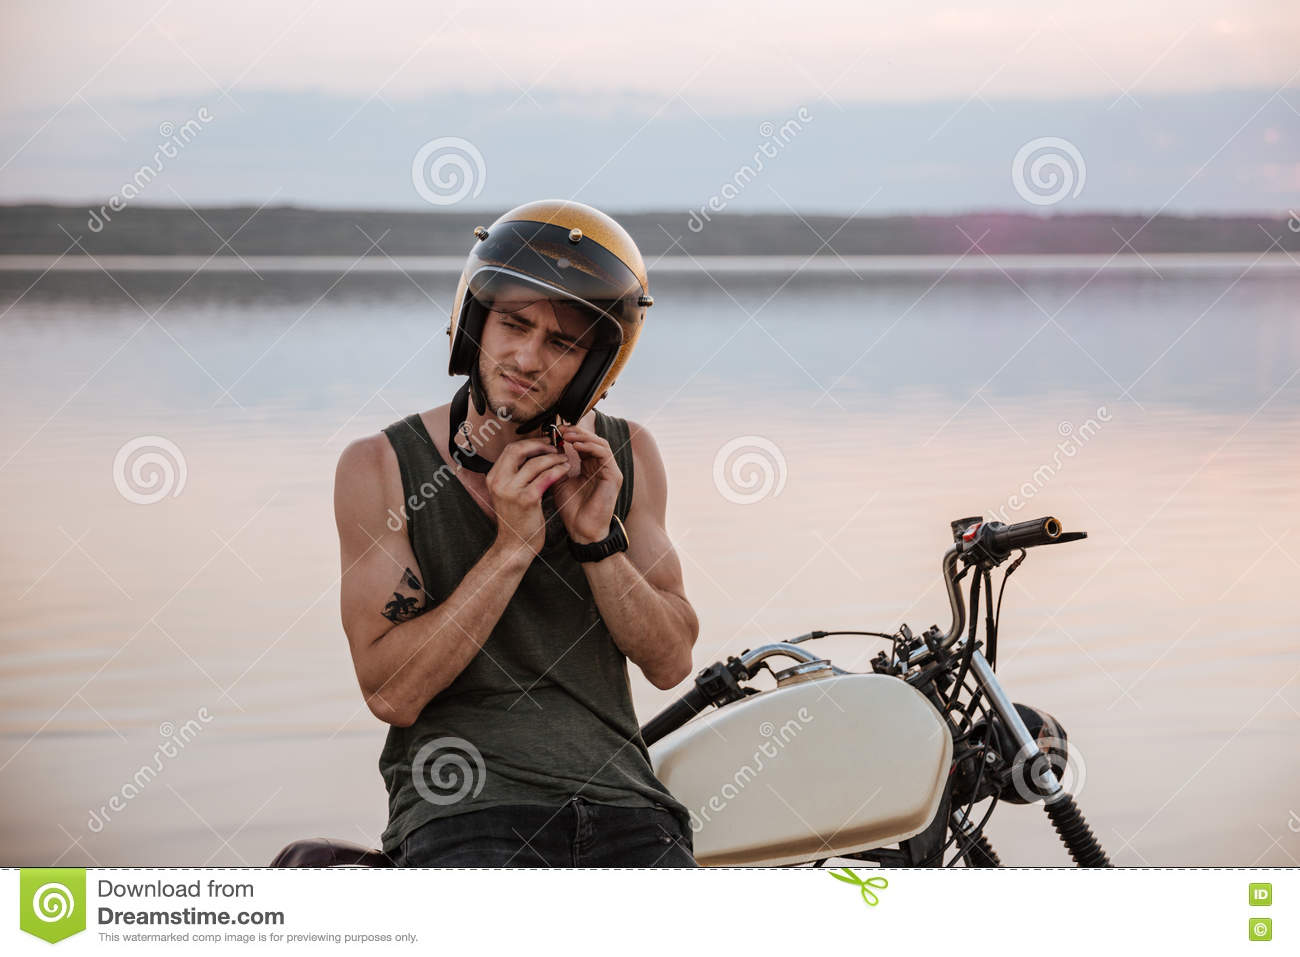helmet: (451, 201, 649, 413)
